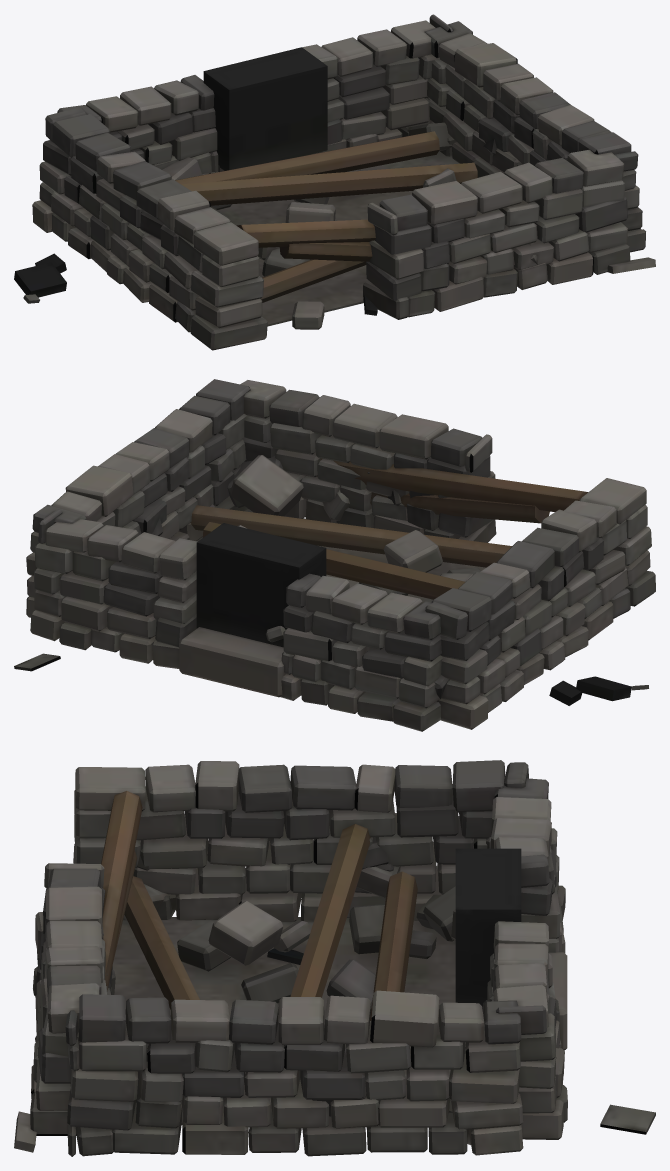
The model's file is bunker_destroyed.glb.
3 renders of one model, top to bottom at view 1: azimuth 30°, elevation 25°; view 2: azimuth 150°, elevation 25°; view 3: azimuth 270°, elevation 25°, orthographic. The views are drawn at different scales.
Parts seen in each view (by area): view 1: structure, debris; view 2: structure, debris; view 3: structure, debris.
Part boxes in pixels (x1,y1,x2,y2): structure: (32,14,645,350); debris: (14,253,655,315); structure: (26,379,655,731); debris: (14,653,648,705); structure: (30,760,567,1156); debris: (14,948,655,1152).
Bounding box in the file's own units: 5.85 × 1.31 × 4.88.
Materials: 1 (1 with a texture image).
